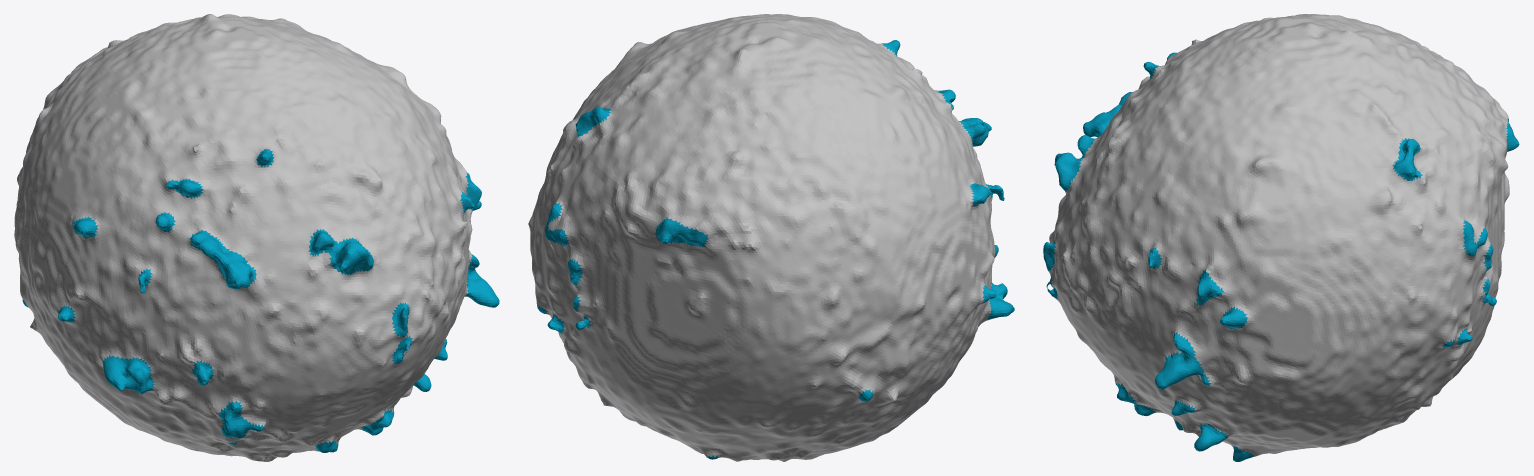
The picture shows the model from 3 angles, left to right: view 1: azimuth 30°, elevation 25°; view 2: azimuth 150°, elevation 25°; view 3: azimuth 270°, elevation 25°; orthographic projection. The views are drawn at different scales.
Size of the model in its own units: 130 by 123 by 134.
